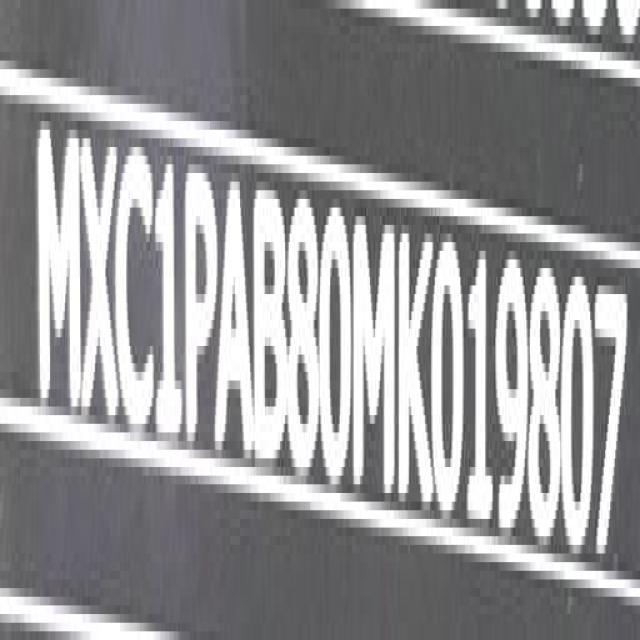0: (320, 189, 351, 501), (434, 225, 465, 528), (562, 262, 593, 564)
1: (157, 146, 183, 452), (466, 234, 490, 540)
7: (598, 275, 631, 578)
8: (529, 251, 562, 552), (292, 182, 323, 491)
9: (498, 243, 530, 543)
A: (217, 161, 254, 474)
B: (253, 173, 290, 478)
C: (118, 138, 160, 450)
K: (396, 212, 435, 512)
M: (34, 108, 79, 430), (352, 199, 398, 510)
P: (187, 150, 220, 466)
X: (80, 123, 119, 436)
